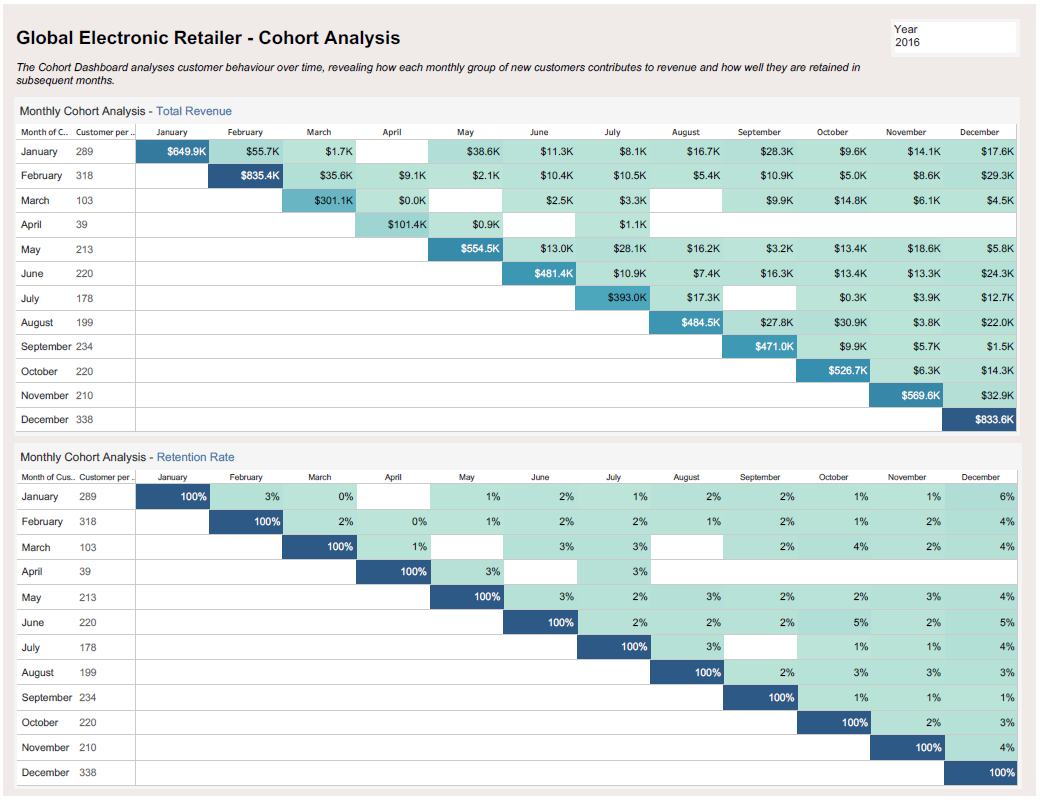

The page's visual inventory and layout, read from the dashboard file:
{"tool":"tableau","page":{"name":"Monthly Cohort Analysis","canvas":[1500,1150],"ordinal":1},"visuals":[{"type":"parameter","param":"[Parameters].[YEAR Parameter]","box":[1291,21,186,54]},{"type":"text","box":[15,26,1251,99]},{"type":"worksheet","title":"Monthly Cohort Analysis - Total Revenue","mark":"Square","rows":["Calculation_2140054277180674048","Calculation_2140054277184098307"],"cols":["Order_Date_Formatted"],"box":[15,135,1463,491]},{"type":"worksheet","title":"Monthly Cohort Analysis - Retention Rate","mark":"Square","rows":["Calculation_2140054277180674048","Calculation_2140054277184098307"],"cols":["Order_Date_Formatted"],"box":[16,638,1464,502]}]}

Visuals, with their boxes in screenshot pixels (x1, y1, x2, y2), scaled from the page's 1500x1150 canvas onto the 1047x804 screenshot:
parameter: [x1=901, y1=15, x2=1031, y2=52]
text: [x1=10, y1=18, x2=884, y2=87]
"Monthly Cohort Analysis - Total Revenue" worksheet (Square marks): [x1=10, y1=94, x2=1032, y2=438]
"Monthly Cohort Analysis - Retention Rate" worksheet (Square marks): [x1=11, y1=446, x2=1033, y2=797]
